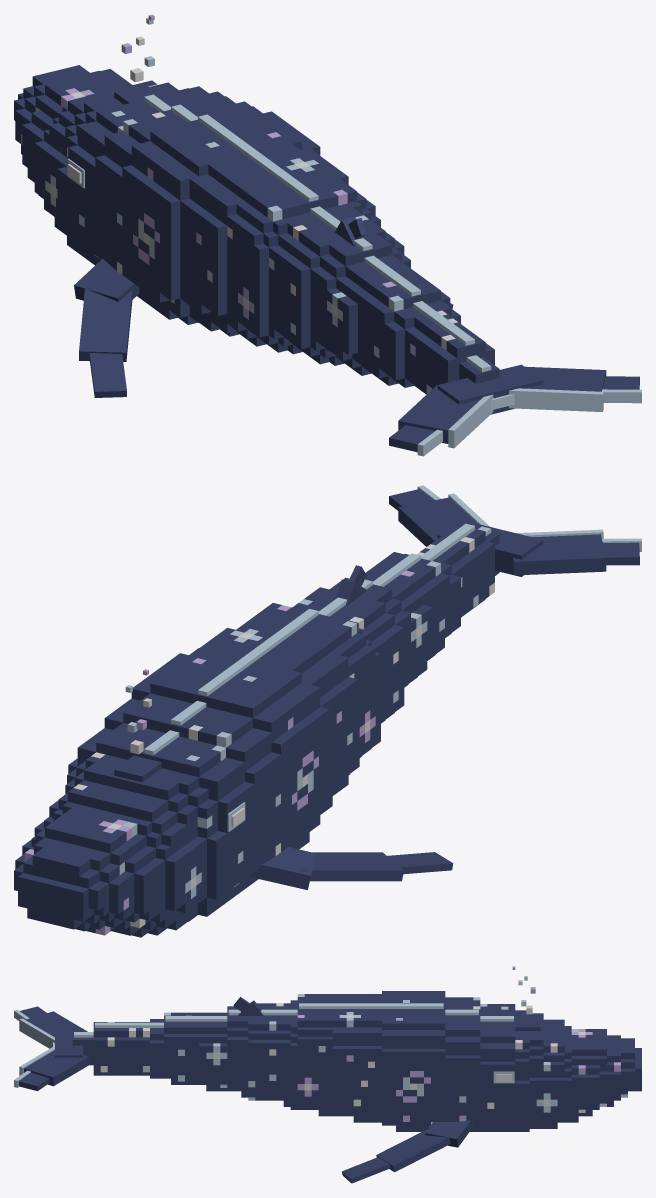
Rendered from VoidWhale.glb.
The picture shows the model from 3 angles, top to bottom: view 1: azimuth 30°, elevation 25°; view 2: azimuth 150°, elevation 25°; view 3: azimuth 270°, elevation 25°; orthographic projection. The views are drawn at different scales.
Parts seen in each view (by area): view 1: S2, S1, Head, S3, Fluke, S4, FlipperL, S5, Fluke_Glow, S6, S1_Glow, S3_Glow (+6 smaller); view 2: Head, S1, S2, S3, Fluke, FlipperL, S4, S5, S6, Head_Glow, S1_Glow, S3_Glow (+4 smaller); view 3: Head, S1, S2, S3, S4, Fluke, S5, FlipperR, S6, Head_Glow, S1_Glow, S3_Glow (+6 smaller).
Part boxes in pixels (bbox=[...]): S2: bbox=[160, 134, 348, 346]; S1: bbox=[95, 96, 308, 324]; Head: bbox=[14, 65, 224, 265]; S3: bbox=[238, 179, 404, 364]; Fluke: bbox=[389, 364, 639, 452]; S4: bbox=[310, 233, 413, 375]; FlipperL: bbox=[74, 258, 139, 397]; S5: bbox=[358, 271, 460, 387]; Fluke_Glow: bbox=[417, 388, 641, 456]; S6: bbox=[405, 314, 494, 394]; S1_Glow: bbox=[117, 104, 280, 274]; S3_Glow: bbox=[238, 184, 368, 335]; Head: bbox=[14, 723, 254, 937]; S1: bbox=[104, 656, 318, 888]; S2: bbox=[170, 614, 359, 831]; S3: bbox=[257, 565, 404, 757]; Fluke: bbox=[389, 489, 639, 576]; FlipperL: bbox=[249, 847, 453, 889]; S4: bbox=[330, 571, 432, 687]; S5: bbox=[367, 552, 460, 660]; S6: bbox=[420, 524, 494, 617]; Head_Glow: bbox=[24, 730, 245, 935]; S1_Glow: bbox=[171, 658, 318, 855]; S3_Glow: bbox=[277, 597, 398, 742]; Head: bbox=[480, 1004, 641, 1131]; S1: bbox=[396, 991, 480, 1131]; S2: bbox=[318, 991, 395, 1125]; S3: bbox=[233, 994, 318, 1109]; S4: bbox=[199, 1006, 248, 1097]; Fluke: bbox=[18, 1006, 88, 1091]; S5: bbox=[150, 1012, 199, 1084]; FlipperR: bbox=[342, 1120, 473, 1183]; S6: bbox=[93, 1022, 149, 1075]; Head_Glow: bbox=[480, 1004, 627, 1112]; S1_Glow: bbox=[396, 997, 480, 1124]; S3_Glow: bbox=[248, 994, 318, 1100].
Bounding box in the file's own units: 19.18 × 12.62 × 44.67.
